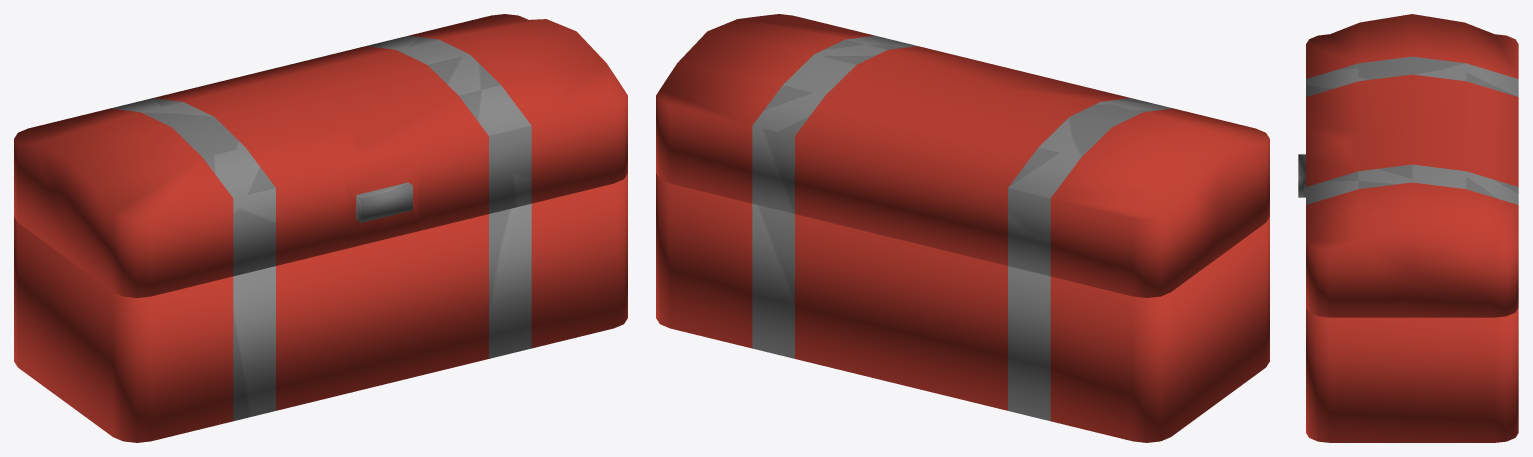
File: goldbox.fbx
3 views of the same model, side by side, from view 1: azimuth 30°, elevation 25°; view 2: azimuth 150°, elevation 25°; view 3: azimuth 270°, elevation 25° (orthographic). The views are drawn at different scales.
Parts seen in each view (by area): view 1: lootbox_head, lootbox; view 2: lootbox_head, lootbox; view 3: lootbox_head, lootbox.
Boxes of the visible parts, left/top/right/bottom form: lootbox_head: left=14, top=14, right=627, bottom=297; lootbox: left=14, top=173, right=627, bottom=442; lootbox_head: left=656, top=14, right=1269, bottom=297; lootbox: left=656, top=173, right=1269, bottom=442; lootbox_head: left=1298, top=14, right=1518, bottom=317; lootbox: left=1306, top=308, right=1518, bottom=442.
Size of the model in its own units: 144 by 67.03 by 62.16.
